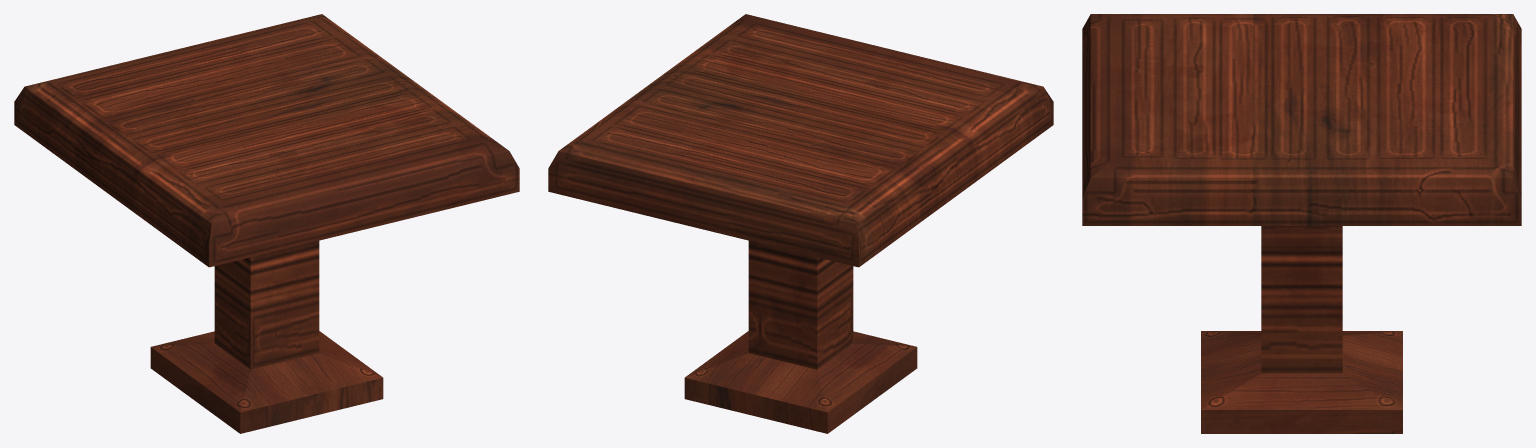
The model's file is small_table.fbx.
The picture shows the model from 3 angles, left to right: view 1: azimuth 30°, elevation 25°; view 2: azimuth 150°, elevation 25°; view 3: azimuth 270°, elevation 25°; orthographic projection. The views are drawn at different scales.
Visible parts, largest first — view 1: small_table; view 2: small_table; view 3: small_table.
Part boxes in pixels (x1,y1,x2,y2): small_table: [14, 14, 519, 433]; small_table: [548, 14, 1053, 433]; small_table: [1082, 14, 1521, 433].
Bounding box in the file's own units: 71.01 × 59.32 × 77.1.
